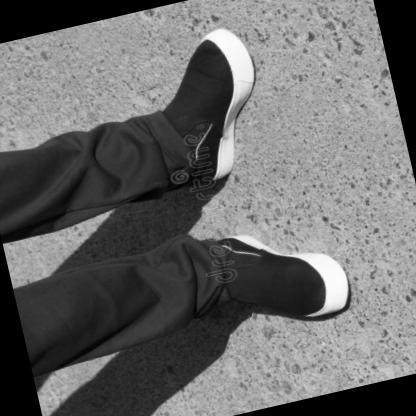ankle: (169, 160, 177, 165), (215, 252, 222, 256)
heel: (209, 172, 216, 177), (235, 239, 241, 242)
left_foot: (130, 24, 278, 193)
pinky: (196, 53, 201, 57), (303, 311, 309, 314)
right_foot: (186, 214, 356, 344)
toe: (225, 61, 232, 67), (316, 270, 323, 275)
